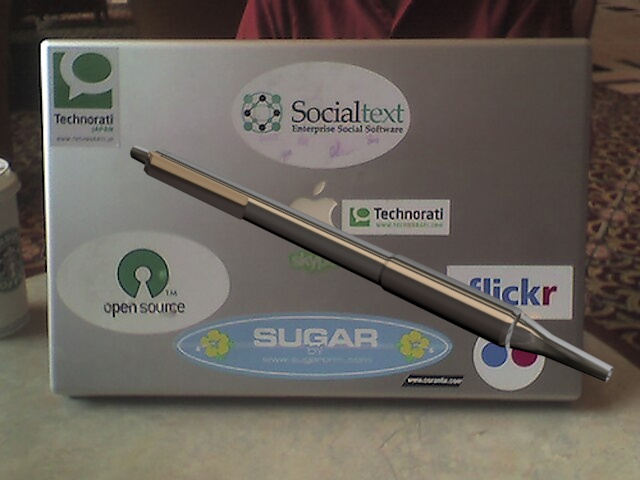pen: (129, 145, 616, 384)
